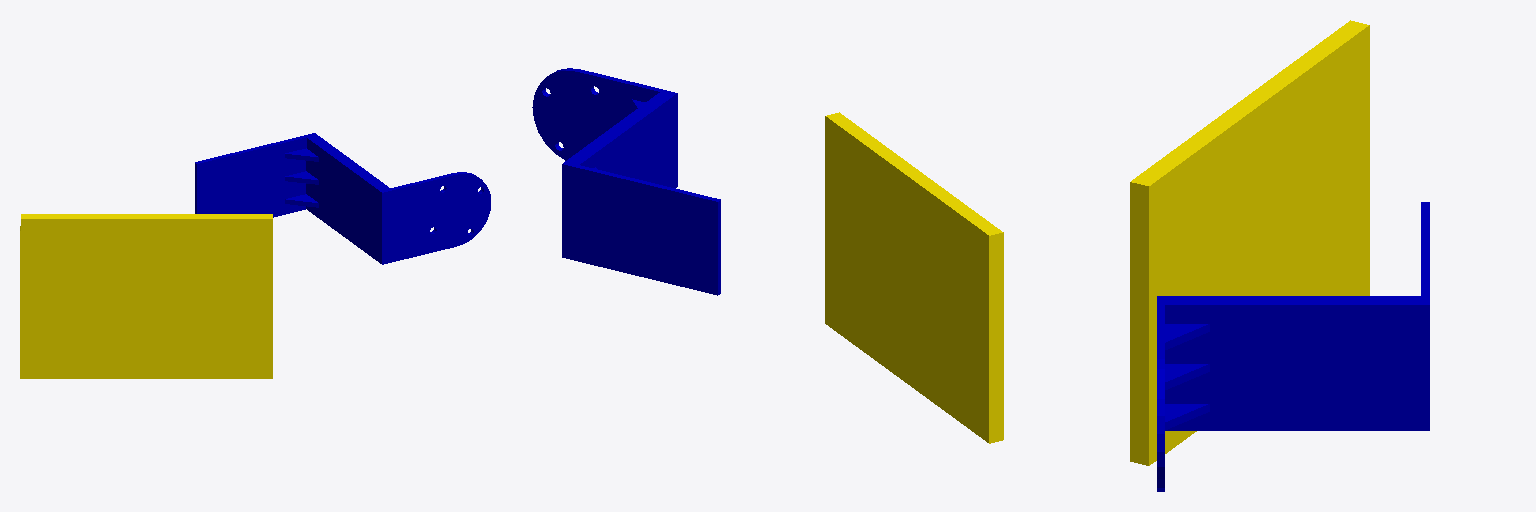
URDF robot description (S20):
<?xml version="1.0" ?>
<robot name="S20">
  <!-- material definition -->
  <material name="black">
    <color rgba="0.0 0.0 0.0 1.0"/>
  </material>
  <material name="blue">
    <color rgba="0.0 0.0 0.8 1.0"/>
  </material>
  <material name="green">
    <color rgba="0.0 0.8 0.0 1.0"/>
  </material>
  <material name="grey">
    <color rgba="0.2 0.2 0.2 1.0"/>
  </material>
  <material name="orange">
    <color rgba="1.0 0.4235294117647059 0.0392156862745098 1.0"/>
  </material>
  <material name="brown">
    <color rgba="0.8705882352941177 0.8117647058823529 0.7647058823529411 1.0"/>
  </material>
  <material name="red">
    <color rgba="0.8 0.0 0.0 1.0"/>
  </material>
  <material name="white">
    <color rgba="1.0 1.0 1.0 1.0"/>
  </material>
  <material name="metal">
    <color rgba="0.768627450980392 0.749019607843137 0.729411764705882 1"/>
  </material>
  <material name="metal_grey">
    <color rgba="0.501960784313725 0.501960784313725 0.501960784313725 1"/>
  </material>
  <material name="metal_white">
    <color rgba="0.866666666666667 0.866666666666667 0.890196078431373 1"/>
  </material>
  <!-- ros_control plugin -->
  <gazebo>
    <plugin filename="libgazebo_ros_control.so" name="gazebo_ros_control">
      <robotSimType>gazebo_ros_control/DefaultRobotHWSim</robotSimType>
      <legacyModeNS>true</legacyModeNS>
    </plugin>
  </gazebo>
  <gazebo reference="elfin_link2">
    <visual name="visual">
      <material>
        <script>
          <uri>file:/[local-path]/scripts/gazebo.material</uri>
          <name>Gazebo/Grey</name>
        </script>
      </material>
    </visual>
  </gazebo>
  <gazebo reference="elfin_link4">
    <visual name="visual">
      <material>
        <script>
          <uri>file:/[local-path]/scripts/gazebo.material</uri>
          <name>Gazebo/Grey</name>
        </script>
      </material>
    </visual>
  </gazebo>
  <!-- transmission for each joint -->
  <transmission name="elfin_joint1_trans">
    <type>transmission_interface/SimpleTransmission</type>
    <joint name="elfin_joint1">
      <hardwareInterface>hardware_interface/PositionJointInterface</hardwareInterface>
    </joint>
    <actuator name="elfin_joint1_motor">
      <mechanicalReduction>1</mechanicalReduction>
    </actuator>
  </transmission>
  <transmission name="elfin_joint2_trans">
    <type>transmission_interface/SimpleTransmission</type>
    <joint name="elfin_joint2">
      <hardwareInterface>hardware_interface/PositionJointInterface</hardwareInterface>
    </joint>
    <actuator name="elfin_joint2_motor">
      <mechanicalReduction>1</mechanicalReduction>
    </actuator>
  </transmission>
  <transmission name="elfin_joint3_trans">
    <type>transmission_interface/SimpleTransmission</type>
    <joint name="elfin_joint3">
      <hardwareInterface>hardware_interface/PositionJointInterface</hardwareInterface>
    </joint>
    <actuator name="elfin_joint3_motor">
      <mechanicalReduction>1</mechanicalReduction>
    </actuator>
  </transmission>
  <transmission name="elfin_joint4_trans">
    <type>transmission_interface/SimpleTransmission</type>
    <joint name="elfin_joint4">
      <hardwareInterface>hardware_interface/PositionJointInterface</hardwareInterface>
    </joint>
    <actuator name="elfin_joint4_motor">
      <mechanicalReduction>1</mechanicalReduction>
    </actuator>
  </transmission>
  <transmission name="elfin_joint5_trans">
    <type>transmission_interface/SimpleTransmission</type>
    <joint name="elfin_joint5">
      <hardwareInterface>hardware_interface/PositionJointInterface</hardwareInterface>
    </joint>
    <actuator name="elfin_joint5_motor">
      <mechanicalReduction>1</mechanicalReduction>
    </actuator>
  </transmission>
  <transmission name="elfin_joint6_trans">
    <type>transmission_interface/SimpleTransmission</type>
    <joint name="elfin_joint6">
      <hardwareInterface>hardware_interface/PositionJointInterface</hardwareInterface>
    </joint>
    <actuator name="elfin_joint6_motor">
      <mechanicalReduction>1</mechanicalReduction>
    </actuator>
  </transmission>
  <!-- link and joint -->
  <link name="world"/>
  <joint name="world_base" type="fixed">
    <origin rpy="0 0 0" xyz="0 0 0"/>
    <parent link="world"/>
    <child link="elfin_base_link"/>
  </joint>
  <link name="elfin_base_link"/>
  <joint name="elfin_base_joint" type="fixed">
    <origin rpy="0 0 0" xyz="0 0 0"/>
    <parent link="elfin_base_link"/>
    <child link="elfin_base"/>
  </joint>
  <link name="elfin_base">
    <inertial>
      <origin rpy="0 0 0" xyz="-0.00131650768656017 3.86349405459754E-05 0.0343213199540785"/>
      <mass value="2.32181468230125"/>
      <inertia ixx="0.00741739022505177" ixy="-9.4225231258528E-05" ixz="-5.45619950886553E-05" iyy="0.00699483778046143" iyz="1.30022773204213E-06" izz="0.0123390065438587"/>
    </inertial>
    <visual>
      <origin rpy="0 0 0" xyz="0 0 0"/>
      <geometry>
        <mesh filename="package://elfin_description/meshes/S20/elfin_base.STL"/>
      </geometry>
      <material name="">
        <color rgba="0.752941176470588 0.752941176470588 0.752941176470588 1"/>
      </material>
    </visual>
    <collision>
      <origin rpy="0 0 0" xyz="0 0 0"/>
      <geometry>
        <mesh filename="package://elfin_description/meshes/S20/elfin_base.STL"/>
      </geometry>
    </collision>
  </link>
  <link name="elfin_link1">
    <inertial>
      <origin rpy="0 0 0" xyz="-1.0792519167212E-07 -0.0224399626110038 0.00175002240516534"/>
      <mass value="6.93455742496729"/>
      <inertia ixx="0.0460589183335357" ixy="5.43718136375216E-07" ixz="2.96738634298801E-07" iyy="0.0375916708812216" iyz="-0.000245581780149179" izz="0.0394268304468804"/>
    </inertial>
    <visual>
      <origin rpy="0 0 0" xyz="0 0 0"/>
      <geometry>
        <mesh filename="package://elfin_description/meshes/S20/elfin_link1.STL"/>
      </geometry>
      <material name="">
        <color rgba="0.898039215686275 0.917647058823529 0.929411764705882 1"/>
      </material>
    </visual>
    <collision>
      <origin rpy="0 0 0" xyz="0 0 0"/>
      <geometry>
        <mesh filename="package://elfin_description/meshes/S20/elfin_link1.STL"/>
      </geometry>
    </collision>
  </link>
  <joint name="elfin_joint1" type="revolute">
    <origin rpy="0 0 0" xyz="0 0 0.171"/>
    <parent link="elfin_base"/>
    <child link="elfin_link1"/>
    <axis xyz="0 0 1"/>
    <limit effort="200" lower="-6.28" upper="6.28" velocity="1.57"/>
  </joint>
  <link name="elfin_link2">
    <inertial>
      <origin rpy="0 0 0" xyz="-0.370229694350317 9.38128437405483E-07 0.000899041883029139"/>
      <mass value="18.8395085758056"/>
      <inertia ixx="0.0687507132351259" ixy="-5.05507420279161E-07" ixz="-6.41343868263508E-05" iyy="0.411200291693132" iyz="-1.80729528146994E-07" izz="0.40138597350588"/>
    </inertial>
    <visual>
      <origin rpy="0 0 0" xyz="0 0 0"/>
      <geometry>
        <mesh filename="package://elfin_description/meshes/S20/elfin_link2.STL"/>
      </geometry>
      <material name="">
        <color rgba="0.752941176470588 0.752941176470588 0.752941176470588 1"/>
      </material>
    </visual>
    <collision>
      <origin rpy="0 0 0" xyz="0 0 0"/>
      <geometry>
        <mesh filename="package://elfin_description/meshes/S20/elfin_link2.STL"/>
      </geometry>
    </collision>
  </link>
  <joint name="elfin_joint2" type="revolute">
    <origin rpy="1.5708 1.5708 0" xyz="0 -0.2295 0"/>
    <parent link="elfin_link1"/>
    <child link="elfin_link2"/>
    <axis xyz="0 0 1"/>
    <limit effort="200" lower="-3.3158" upper="0.1745" velocity="1.57"/>
  </joint>
  <link name="elfin_link3">
    <inertial>
      <origin rpy="0 0 0" xyz="0.310973076601113 -4.7405306624615E-09 0.0109938899740937"/>
      <mass value="7.53508270364931"/>
      <inertia ixx="0.0133872719937165" ixy="1.91460600478011E-07" ixz="0.00152175061957157" iyy="0.11837455186459" iyz="-2.26041817837737E-08" izz="0.116582348081593"/>
    </inertial>
    <visual>
      <origin rpy="0 0 0" xyz="0 0 0"/>
      <geometry>
        <mesh filename="package://elfin_description/meshes/S20/elfin_link3.STL"/>
      </geometry>
      <material name="">
        <color rgba="0.752941176470588 0.752941176470588 0.752941176470588 1"/>
      </material>
    </visual>
    <collision>
      <origin rpy="0 0 0" xyz="0 0 0"/>
      <geometry>
        <mesh filename="package://elfin_description/meshes/S20/elfin_link3.STL"/>
      </geometry>
    </collision>
  </link>
  <joint name="elfin_joint3" type="revolute">
    <origin rpy="0 0 3.1416" xyz="-0.85 0 -0.1885"/>
    <parent link="elfin_link2"/>
    <child link="elfin_link3"/>
    <axis xyz="0 0 1"/>
    <limit effort="200" lower="-2.9319" upper="2.9319" velocity="1.57"/>
  </joint>
  <link name="elfin_link4">
    <inertial>
      <origin rpy="0 0 0" xyz="8.5204157129759E-07 -0.00559612992738279 0.124499710924349"/>
      <mass value="1.26777180180805"/>
      <inertia ixx="0.00300888445161096" ixy="1.64612435809042E-08" ixz="3.62281943568331E-08" iyy="0.00214465218602862" iyz="9.35786831203314E-05" izz="0.00239761638151984"/>
    </inertial>
    <visual>
      <origin rpy="0 0 0" xyz="0 0 0"/>
      <geometry>
        <mesh filename="package://elfin_description/meshes/S20/elfin_link4.STL"/>
      </geometry>
      <material name="">
        <color rgba="0.898039215686275 0.917647058823529 0.929411764705882 1"/>
      </material>
    </visual>
    <collision>
      <origin rpy="0 0 0" xyz="0 0 0"/>
      <geometry>
        <mesh filename="package://elfin_description/meshes/S20/elfin_link4.STL"/>
      </geometry>
    </collision>
  </link>
  <joint name="elfin_joint4" type="revolute">
    <origin rpy="0 0 0" xyz="0.712 0 0"/>
    <parent link="elfin_link3"/>
    <child link="elfin_link4"/>
    <axis xyz="0 0 1"/>
    <limit effort="104" lower="-6.28" upper="6.28" velocity="1.57"/>
  </joint>
  <link name="elfin_link5">
    <inertial>
      <origin rpy="0 0 0" xyz="-1.58900480728974E-06 0.00559613044782842 0.124499711309393"/>
      <mass value="1.26777180180803"/>
      <inertia ixx="0.00300888445161093" ixy="1.64612435696446E-08" ixz="-3.62281943491141E-08" iyy="0.00214465218602857" iyz="-9.35786831203246E-05" izz="0.00239761638151982"/>
    </inertial>
    <visual>
      <origin rpy="0 0 0" xyz="0 0 0"/>
      <geometry>
        <mesh filename="package://elfin_description/meshes/S20/elfin_link5.STL"/>
      </geometry>
      <material name="">
        <color rgba="0.752941176470588 0.752941176470588 0.752941176470588 1"/>
      </material>
    </visual>
    <collision>
      <origin rpy="0 0 0" xyz="0 0 0"/>
      <geometry>
        <mesh filename="package://elfin_description/meshes/S20/elfin_link5.STL"/>
      </geometry>
    </collision>
  </link>
  <joint name="elfin_joint5" type="revolute">
    <origin rpy="-1.5708 0 0" xyz="0 0 0.138"/>
    <parent link="elfin_link4"/>
    <child link="elfin_link5"/>
    <axis xyz="0 0 1"/>
    <limit effort="34" lower="-6.28" upper="6.28" velocity="1.57"/>
  </joint>
  <link name="elfin_link6">
    <inertial>
      <origin rpy="0 0 0" xyz="-7.47115137089693E-07 0.000102435646244473 0.0904183015693256"/>
      <mass value="0.468079508708449"/>
      <inertia ixx="0.000412770805513074" ixy="1.60636639637837E-08" ixz="-3.02343967687703E-08" iyy="0.000415704740293176" iyz="1.46595766333508E-07" izz="0.000530952415351683"/>
    </inertial>
    <visual>
      <origin rpy="0 0 0" xyz="0 0 0"/>
      <geometry>
        <mesh filename="package://elfin_description/meshes/S20/elfin_link6.STL"/>
      </geometry>
      <material name="">
        <color rgba="0.752941176470588 0.752941176470588 0.752941176470588 1"/>
      </material>
    </visual>
    <collision>
      <origin rpy="0 0 0" xyz="0 0 0"/>
      <geometry>
        <mesh filename="package://elfin_description/meshes/S20/elfin_link6.STL"/>
      </geometry>
    </collision>
  </link>
  <joint name="elfin_joint6" type="revolute">
    <origin rpy="1.5708 0 0" xyz="0 0 0.138"/>
    <parent link="elfin_link5"/>
    <child link="elfin_link6"/>
    <axis xyz="0 0 1"/>
    <limit effort="34" lower="-6.28" upper="6.28" velocity="1.57"/>
  </joint>
  <link name="elfin_end_link">
  </link>
  <joint name="elfin_end_joint" type="fixed">
    <origin rpy="0 0 3.1416" xyz="0 0 0.1257"/>
    <parent link="elfin_link6"/>
    <child link="elfin_end_link"/>
  </joint>
  <link name="ee_link">
    <inertial>
      <origin rpy="0 0 0" xyz="0.09985 0.01497 0"/>
      <mass value="0.27026"/>
      <inertia ixx="0.00037806842" ixy="-0.00058730041" ixz="0" iyy="0.01015950201" iyz="0" izz="0.01036063427"/>
    </inertial>
    <visual>
      <origin rpy="0 0 0" xyz="0 0 0"/>
      <geometry>
        <mesh filename="package://elfin_description/meshes/S20/ee_link.STL"/>
      </geometry>
      <material name="">
        <color rgba="0 0 0.8 1"/>
      </material>
    </visual>
    <collision>
      <origin rpy="0 0 0" xyz="0 0 0"/>
      <geometry>
        <mesh filename="package://elfin_description/meshes/S20/ee_link.STL"/>
      </geometry>
    </collision>
  </link>
  <joint name="ee_link_joint" type="fixed">
    <origin rpy="-1.5707 0 1.5707" xyz="0 -0.3685 0"/> 
    <parent link="elfin_end_link"/>
    <child link="ee_link"/>
  </joint>
  <!-- <link name="simplified_gripper">
    <inertial>
      <origin rpy="0 0 0" xyz="0 0.056 0" />
      <mass value="0.01" />
      <inertia
        ixx="0.01915747528" ixy="0.0" ixz="0.0"
        iyy="0.01703240564" iyz="0.0"
        izz="0.02542725436" />
    </inertial> 
    <visual>
      <origin rpy="0 0 0" xyz="0 0 0"/>
      <geometry>
        <mesh filename="package://elfin_description/meshes/S20/simplified_gripper.STL"/>
      </geometry>
      <material name="">
        <color rgba="1.0 0.92 0.016 1"/>
      </material>
    </visual>
    <collision>
      <origin rpy="0 0 0" xyz="0 0 0"/>
      <geometry>
        <mesh filename="package://elfin_description/meshes/S20/simplified_gripper.STL"/>
      </geometry>
    </collision>
  </link> -->
  <link name="simplified_gripper">
    <visual>
      <origin rpy="0 0 0" xyz="0 0.005 0"/>
      <geometry>
        <box size="0.2 0.01 0.14"/>
      </geometry>
      <material name="">
        <color rgba="1.0 0.92 0.016 1"/>
      </material>
    </visual>
    <collision>
      <origin rpy="0 0 0" xyz="0 0.005 0"/>
      <geometry>
        <box size="0.2 0.01 0.14"/>
      </geometry>
    </collision>
    <inertial>
      <origin rpy="0 0 0" xyz="0 0 0" />
      <mass value="0.00001" />
      <inertia
        ixx="0.00001" ixy="0.0" ixz="0.0"
        iyy="0.00001" iyz="0.0"
        izz="0.00001" />
    </inertial>
  </link>
  <joint name="gripper_joint" type="fixed">
    <origin rpy="0 0 -0.5236" xyz="-0.0936 0.0379 0"/>
    <parent link="ee_link"/>
    <child link="simplified_gripper"/>
  </joint>
</robot>

--- What the picture shows (computed from the rendered views, not written in the file) ---
3 views of the same robot in one strip: view 1: azimuth 30°, elevation 25°; view 2: azimuth 150°, elevation 25°; view 3: azimuth 270°, elevation 25° (orthographic).
Model S20 with 12 links and 11 joints (6 revolute, 5 fixed), rooted at world, posed every joint at zero.
Visible links, largest first — view 1: simplified_gripper, ee_link; view 2: simplified_gripper, ee_link; view 3: simplified_gripper, ee_link.
Boxes of the visible links, x1,y1,x2,y2 form: simplified_gripper: (20,214,272,378); ee_link: (195,133,490,264); simplified_gripper: (825,112,1003,443); ee_link: (532,68,720,295); simplified_gripper: (1130,20,1369,465); ee_link: (1157,202,1429,491).
Bounding box of the posed robot: 0.3802 × 0.1361 × 0.14 m (x, y, z).
Meshes: 8 distinct files referenced, 1 mesh visuals loaded (1 binary STL); not drawn: 7 (reference not matched to a file when rendering).